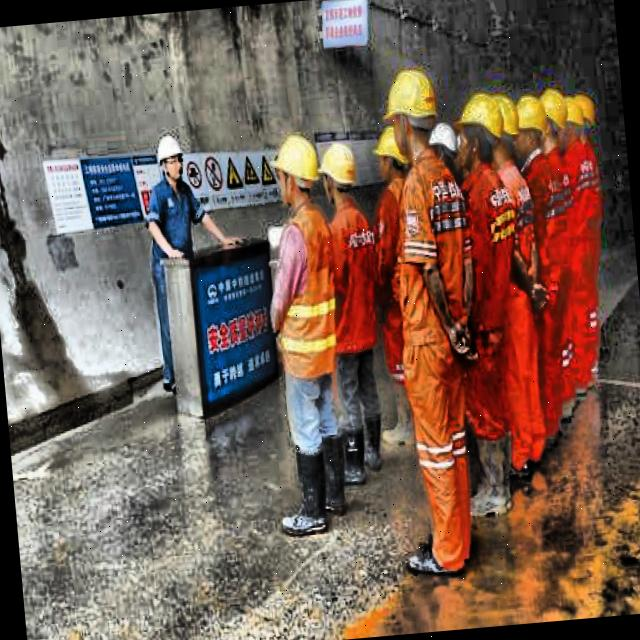helmet: (380, 64, 442, 160), (269, 128, 326, 218), (453, 89, 508, 178), (320, 138, 361, 206), (372, 124, 411, 194), (512, 94, 548, 162), (426, 118, 467, 176), (539, 80, 570, 153), (150, 127, 188, 185), (558, 96, 584, 144), (578, 90, 598, 138)
